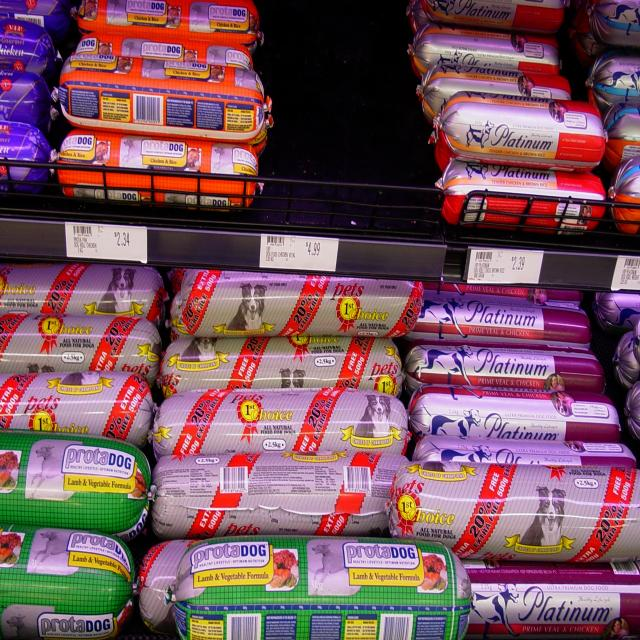empty_space: (274, 4, 406, 228)
